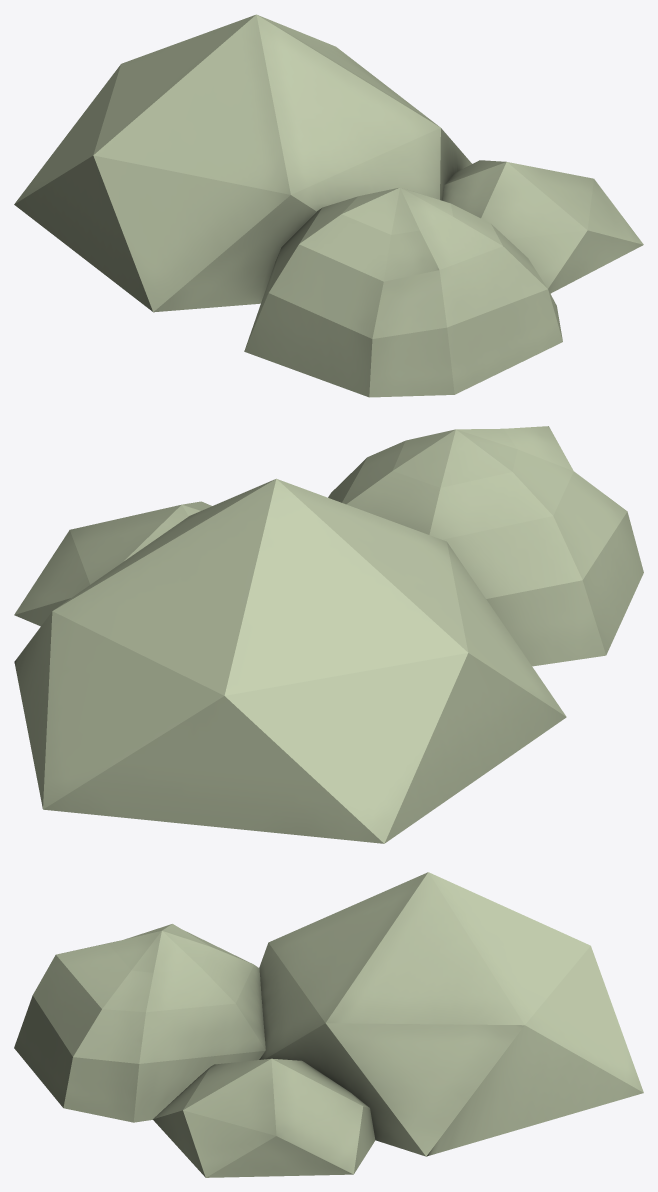
Rendered from RockPack_04.glb.
The picture shows the model from 3 angles, top to bottom: view 1: azimuth 30°, elevation 25°; view 2: azimuth 150°, elevation 25°; view 3: azimuth 270°, elevation 25°; orthographic projection. The views are drawn at different scales.
Visible parts, largest first — view 1: RockPack_04; view 2: RockPack_04; view 3: RockPack_04.
Part boxes in pixels (left/top/right/bottom): RockPack_04: left=14, top=14, right=643, bottom=397; RockPack_04: left=14, top=426, right=643, bottom=843; RockPack_04: left=14, top=872, right=643, bottom=1177.
Bounding box in the file's own units: 2.5 × 1.13 × 3.42.
Materials: 1 (1 with a texture image).
